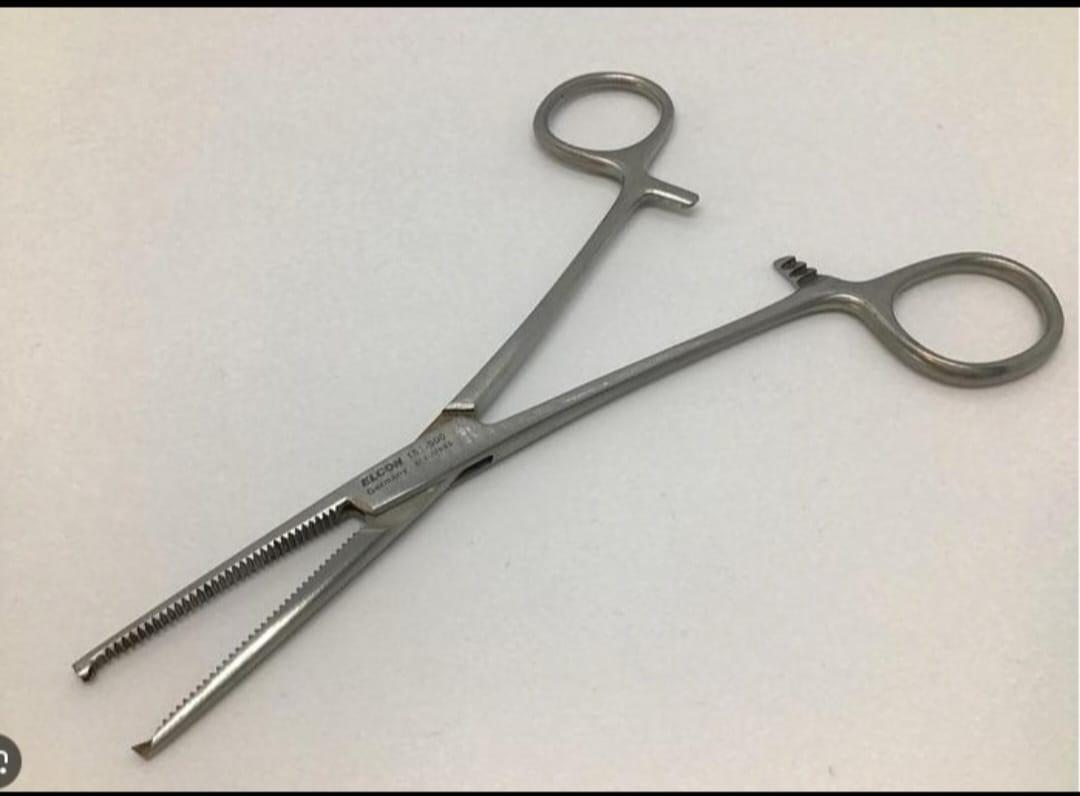Kocher Forceps: (65, 65, 1066, 762)
